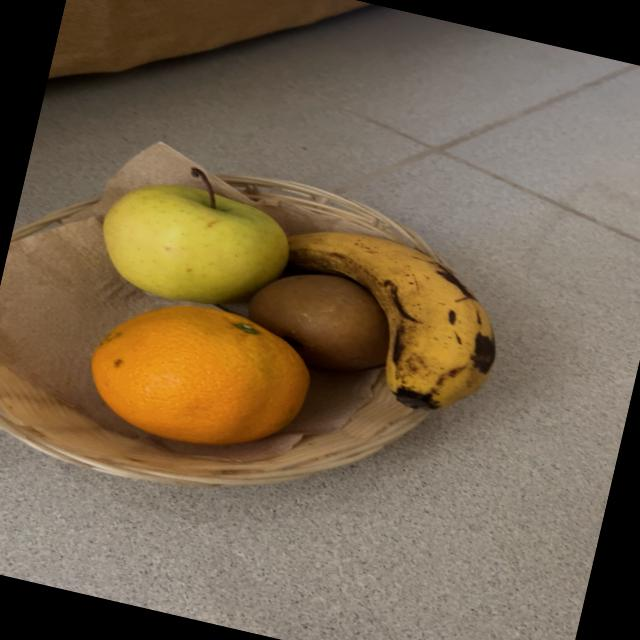apple: (104, 185, 288, 303)
bananas: (290, 232, 495, 409)
orange: (91, 306, 309, 445)
pear: (248, 274, 388, 371)
